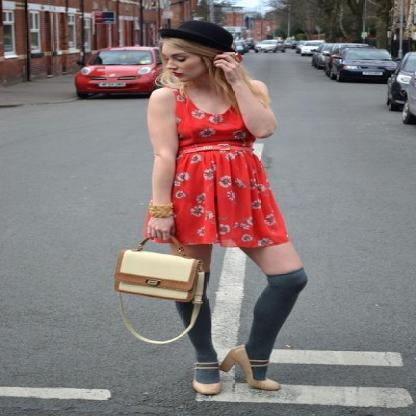bag: (110, 250, 216, 324)
dress: (170, 82, 288, 249)
hat: (162, 21, 236, 52)
shoe: (194, 348, 276, 400)
